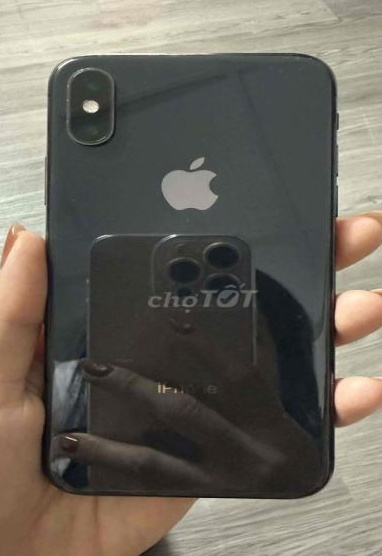scratch: (54, 75, 73, 133), (56, 187, 87, 208), (289, 306, 307, 334), (175, 210, 202, 224)
